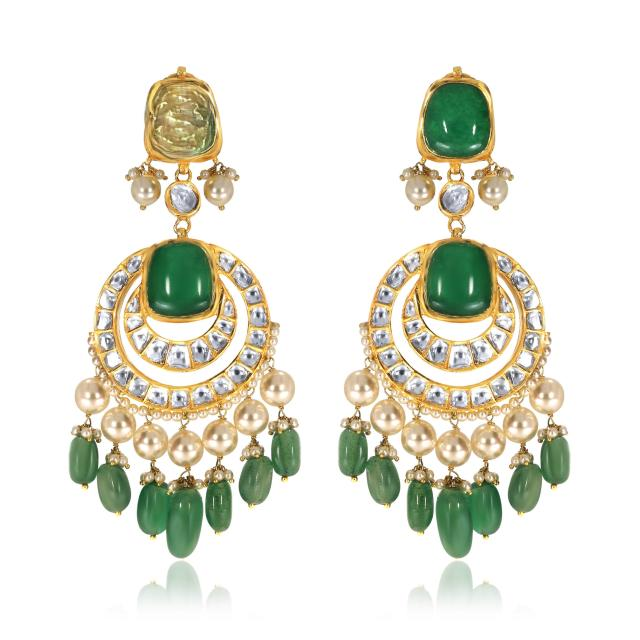missing gem: (150, 81, 217, 159)
